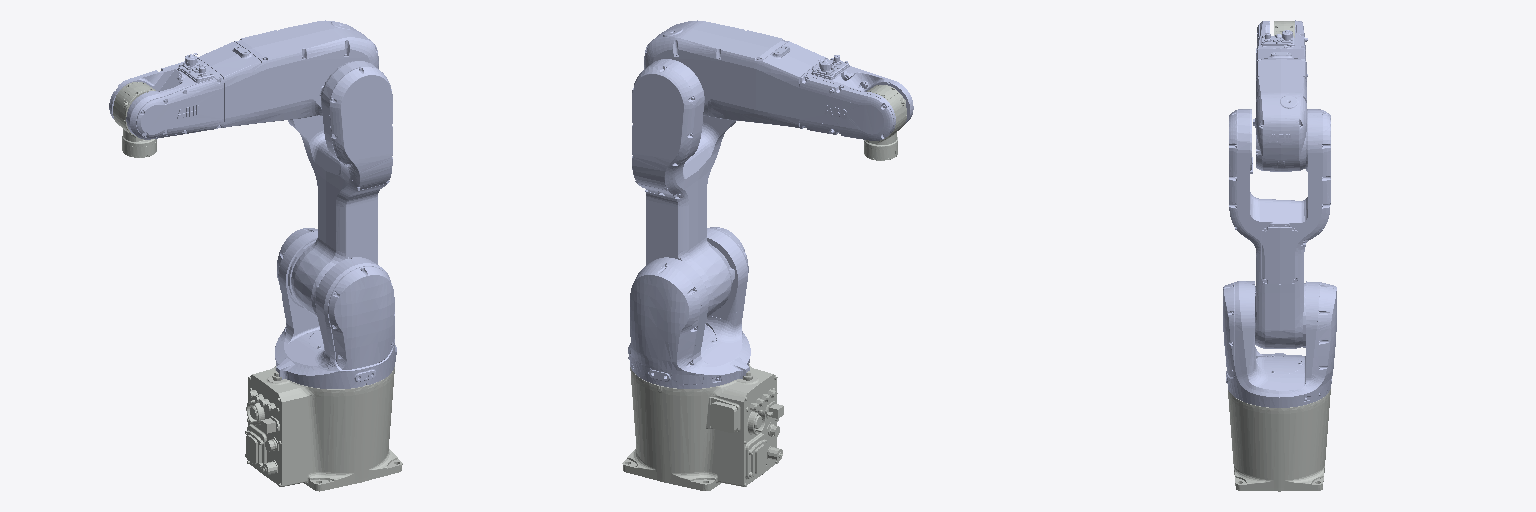
robot.urdf — robot:
<?xml version="1.0" encoding="utf-8"?>
<!-- This URDF was automatically created by SolidWorks to URDF Exporter! Originally created by [author] ([email redacted]) 
     Commit Version: 1.6.0-4-g7f85cfe  Build Version: 1.6.7995.38578
     For more information, please see http://wiki.ros.org/sw_urdf_exporter -->
<robot
  name="robot">
  <link
    name="base_link">
    <inertial>
      <origin
        xyz="-0.023634852424036 0.000475427070029682 0.112188762443572"
        rpy="0 0 0" />
      <mass
        value="10.6449686651718" />
      <inertia
        ixx="0.0737924307811313"
        ixy="0.00055014667142773"
        ixz="-0.000644869704817236"
        iyy="0.0995128660812021"
        iyz="-0.000163368262706731"
        izz="0.0889379695705375" />
    </inertial>
    <visual>
      <origin
        xyz="0 0 0"
        rpy="0 0 0" />
      <geometry>
        <mesh
          filename="package://robot/meshes/base_link.STL" />
      </geometry>
      <material
        name="">
        <color
          rgba="0.784313725490196 0.8 0.788235294117647 1" />
      </material>
    </visual>
    <collision>
      <origin
        xyz="0 0 0"
        rpy="0 0 0" />
      <geometry>
        <mesh
          filename="package://robot/meshes/base_link.STL" />
      </geometry>
    </collision>
  </link>
  <link
    name="link_1">
    <inertial>
      <origin
        xyz="0.00326733567558141 -0.000445650436062321 0.321298198958185"
        rpy="0 0 0" />
      <mass
        value="6.06528839294126" />
      <inertia
        ixx="0.075822451940816"
        ixy="-2.39216062933533E-05"
        ixz="0.000559659244205069"
        iyy="0.0480670971746689"
        iyz="-9.54875975189392E-05"
        izz="0.0552627699037783" />
    </inertial>
    <visual>
      <origin
        xyz="0 0 0"
        rpy="0 0 0" />
      <geometry>
        <mesh
          filename="package://robot/meshes/link_1.STL" />
      </geometry>
      <material
        name="">
        <color
          rgba="0.792156862745098 0.819607843137255 0.933333333333333 1" />
      </material>
    </visual>
    <collision>
      <origin
        xyz="0 0 0"
        rpy="0 0 0" />
      <geometry>
        <mesh
          filename="package://robot/meshes/link_1.STL" />
      </geometry>
    </collision>
  </link>
  <joint
    name="joint_1"
    type="revolute">
    <origin
      xyz="0 0 0"
      rpy="0 0 0" />
    <parent
      link="base_link" />
    <child
      link="link_1" />
    <axis
      xyz="0 0 1" />
    <limit
      lower="-3.927"
      upper="0.7854"
      effort="24.654"
      velocity="0.0635" />
    <dynamics
      damping="0"
      friction="0" />
  </joint>
  <link
    name="link_2">
    <inertial>
      <origin
        xyz="0.0123330655665707 0.218476553299831 -0.00215876234369589"
        rpy="0 0 0" />
      <mass
        value="7.97368837888024" />
      <inertia
        ixx="0.266964889963916"
        ixy="0.001080883953358"
        ixz="-5.99370755688989E-05"
        iyy="0.0431959568154624"
        iyz="0.000341659506722437"
        izz="0.244728200593161" />
    </inertial>
    <visual>
      <origin
        xyz="0 0 0"
        rpy="0 0 0" />
      <geometry>
        <mesh
          filename="package://robot/meshes/link_2.STL" />
      </geometry>
      <material
        name="">
        <color
          rgba="0.792156862745098 0.819607843137255 0.933333333333333 1" />
      </material>
    </visual>
    <collision>
      <origin
        xyz="0 0 0"
        rpy="0 0 0" />
      <geometry>
        <mesh
          filename="package://robot/meshes/link_2.STL" />
      </geometry>
    </collision>
  </link>
  <joint
    name="joint_2"
    type="revolute">
    <origin
      xyz="0 0 0.3991"
      rpy="1.5708 0 0" />
    <parent
      link="link_1" />
    <child
      link="link_2" />
    <axis
      xyz="0 0 1" />
    <limit
      lower="-3.927"
      upper="0.7854"
      effort="24.654"
      velocity="0.0635" />
    <dynamics
      damping="0"
      friction="0" />
  </joint>
  <link
    name="link_3">
    <inertial>
      <origin
        xyz="0.0350293794732254 0.0981181437488218 -0.00429559704085071"
        rpy="0 0 0" />
      <mass
        value="6.40139739415592" />
      <inertia
        ixx="0.0720942155648781"
        ixy="-0.00521185050032234"
        ixz="4.36806283280325E-05"
        iyy="0.0203656922106737"
        iyz="0.000123417000470017"
        izz="0.0782976256297945" />
    </inertial>
    <visual>
      <origin
        xyz="0 0 0"
        rpy="0 0 0" />
      <geometry>
        <mesh
          filename="package://robot/meshes/link_3.STL" />
      </geometry>
      <material
        name="">
        <color
          rgba="0.792156862745098 0.819607843137255 0.933333333333333 1" />
      </material>
    </visual>
    <collision>
      <origin
        xyz="0 0 0"
        rpy="0 0 0" />
      <geometry>
        <mesh
          filename="package://robot/meshes/link_3.STL" />
      </geometry>
    </collision>
  </link>
  <joint
    name="joint_3"
    type="revolute">
    <origin
      xyz="0 0.448 0"
      rpy="0 0 1.5708" />
    <parent
      link="link_2" />
    <child
      link="link_3" />
    <axis
      xyz="0 0 -1" />
    <limit
      lower="-3.927"
      upper="0.7854"
      effort="24.654"
      velocity="0.0635" />
    <dynamics
      damping="0"
      friction="0" />
  </joint>
  <link
    name="link_4">
    <inertial>
      <origin
        xyz="-0.00162791756927525 -0.00115265789420282 0.0692515282895598"
        rpy="0 0 0" />
      <mass
        value="1.79652102880114" />
      <inertia
        ixx="0.00735234445646429"
        ixy="-1.26652883655031E-06"
        ixz="0.000175149794732425"
        iyy="0.00789104490558087"
        iyz="-6.06529732678024E-05"
        izz="0.00374689292517744" />
    </inertial>
    <visual>
      <origin
        xyz="0 0 0"
        rpy="0 0 0" />
      <geometry>
        <mesh
          filename="package://robot/meshes/link_4.STL" />
      </geometry>
      <material
        name="">
        <color
          rgba="0.792156862745098 0.819607843137255 0.933333333333333 1" />
      </material>
    </visual>
    <collision>
      <origin
        xyz="0 0 0"
        rpy="0 0 0" />
      <geometry>
        <mesh
          filename="package://robot/meshes/link_4.STL" />
      </geometry>
    </collision>
  </link>
  <joint
    name="joint_4"
    type="revolute">
    <origin
      xyz="0.04154 0.2885 -0.0045003"
      rpy="-1.5708 1.5708 0" />
    <parent
      link="link_3" />
    <child
      link="link_4" />
    <axis
      xyz="0 0 -1" />
    <limit
      lower="-3.927"
      upper="0.7854"
      effort="24.654"
      velocity="0.0635" />
    <dynamics
      damping="0"
      friction="0" />
  </joint>
  <link
    name="link_5">
    <inertial>
      <origin
        xyz="5.49144179708416E-05 -0.0208480048805133 0.00242847160664341"
        rpy="0 0 0" />
      <mass
        value="0.578630937459301" />
      <inertia
        ixx="0.000997955356406505"
        ixy="-1.44308464483316E-06"
        ixz="5.63594187651174E-07"
        iyy="0.000443157387314296"
        iyz="-2.25900851618047E-05"
        izz="0.00113730967403874" />
    </inertial>
    <visual>
      <origin
        xyz="0 0 0"
        rpy="0 0 0" />
      <geometry>
        <mesh
          filename="package://robot/meshes/link_5.STL" />
      </geometry>
      <material
        name="">
        <color
          rgba="0.780392156862745 0.8 0.788235294117647 1" />
      </material>
    </visual>
    <collision>
      <origin
        xyz="0 0 0"
        rpy="0 0 0" />
      <geometry>
        <mesh
          filename="package://robot/meshes/link_5.STL" />
      </geometry>
    </collision>
  </link>
  <joint
    name="joint_5"
    type="revolute">
    <origin
      xyz="0.0064997 -5.9133E-05 0.161"
      rpy="-3.1416 -1.5708 0" />
    <parent
      link="link_4" />
    <child
      link="link_5" />
    <axis
      xyz="0 0 -1" />
    <limit
      lower="-3.927"
      upper="0.7854"
      effort="24.654"
      velocity="0.0635" />
    <dynamics
      damping="0"
      friction="0" />
  </joint>
</robot>

--- Facts derived from the render (not from the file) ---
Views: 3 orthographic renders of the robot side by side, from view 1: azimuth 30°, elevation 25°; view 2: azimuth 150°, elevation 25°; view 3: azimuth 270°, elevation 25°.
Model robot with 6 links and 5 joints (5 revolute), rooted at base_link, posed all joints at 0.
Links seen in each view (by area): view 1: link_2, base_link, link_1, link_3, link_4, link_5; view 2: link_2, base_link, link_1, link_3, link_4, link_5; view 3: link_2, link_1, base_link, link_3, link_4.
Boxes of the visible links, x1=… form: link_2: x1=288, y1=61, x2=392, y2=317; base_link: x1=245, y1=366, x2=402, y2=491; link_1: x1=275, y1=228, x2=396, y2=388; link_3: x1=197, y1=20, x2=378, y2=127; link_4: x1=109, y1=53, x2=223, y2=139; link_5: x1=113, y1=82, x2=156, y2=157; link_2: x1=632, y1=59, x2=735, y2=316; base_link: x1=622, y1=364, x2=783, y2=490; link_1: x1=628, y1=227, x2=750, y2=388; link_3: x1=644, y1=20, x2=826, y2=127; link_4: x1=799, y1=55, x2=913, y2=140; link_5: x1=864, y1=85, x2=906, y2=160; link_2: x1=1229, y1=109, x2=1330, y2=348; link_1: x1=1223, y1=281, x2=1336, y2=407; base_link: x1=1228, y1=389, x2=1330, y2=491; link_3: x1=1253, y1=48, x2=1306, y2=171; link_4: x1=1256, y1=20, x2=1307, y2=76.
Bounding box of the posed robot: 0.6228 × 0.2635 × 0.9772 m (x, y, z).
Meshes: 6 distinct files referenced, 6 mesh visuals loaded (6 binary STL).